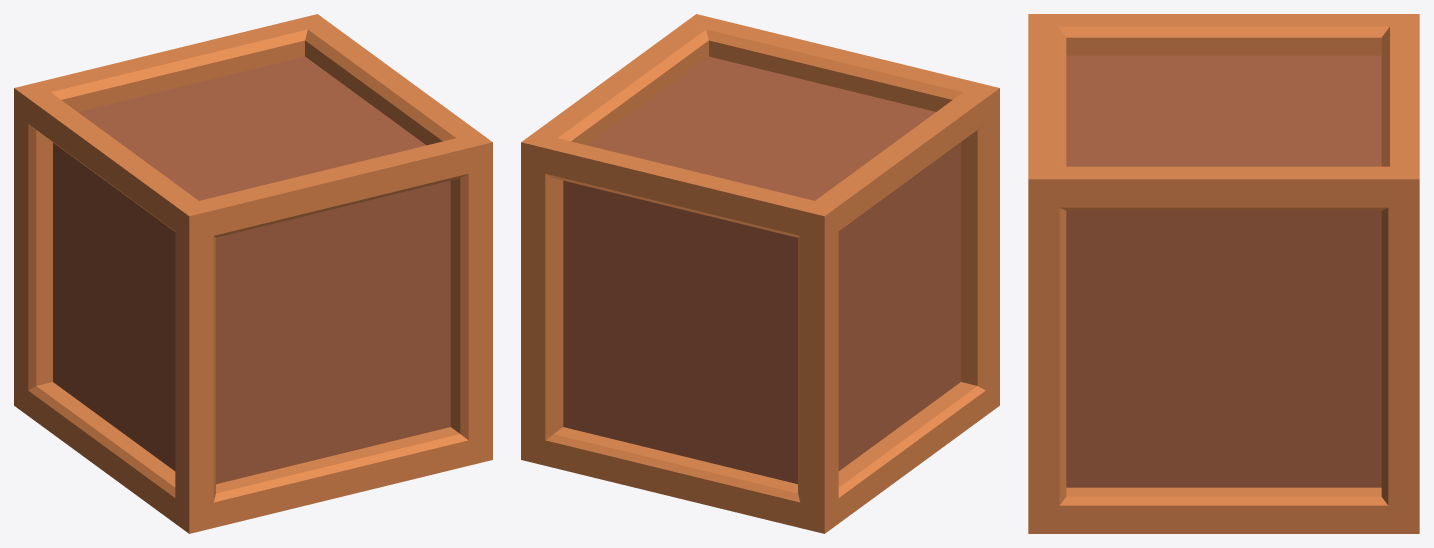
File: CaixaPequena.fbx
3 views of the same model, side by side, from view 1: azimuth 30°, elevation 25°; view 2: azimuth 150°, elevation 25°; view 3: azimuth 270°, elevation 25° (orthographic). The views are drawn at different scales.
Parts seen in each view (by area): view 1: CaixaPequena_LOD0; view 2: CaixaPequena_LOD0; view 3: CaixaPequena_LOD0.
Boxes of the visible parts, x1=… form: CaixaPequena_LOD0: x1=14, y1=14, x2=492, y2=533; CaixaPequena_LOD0: x1=521, y1=14, x2=999, y2=533; CaixaPequena_LOD0: x1=1028, y1=14, x2=1419, y2=533.
Size of what is drawn, in the model's own units: 0.4791 by 0.4791 by 0.4791.
